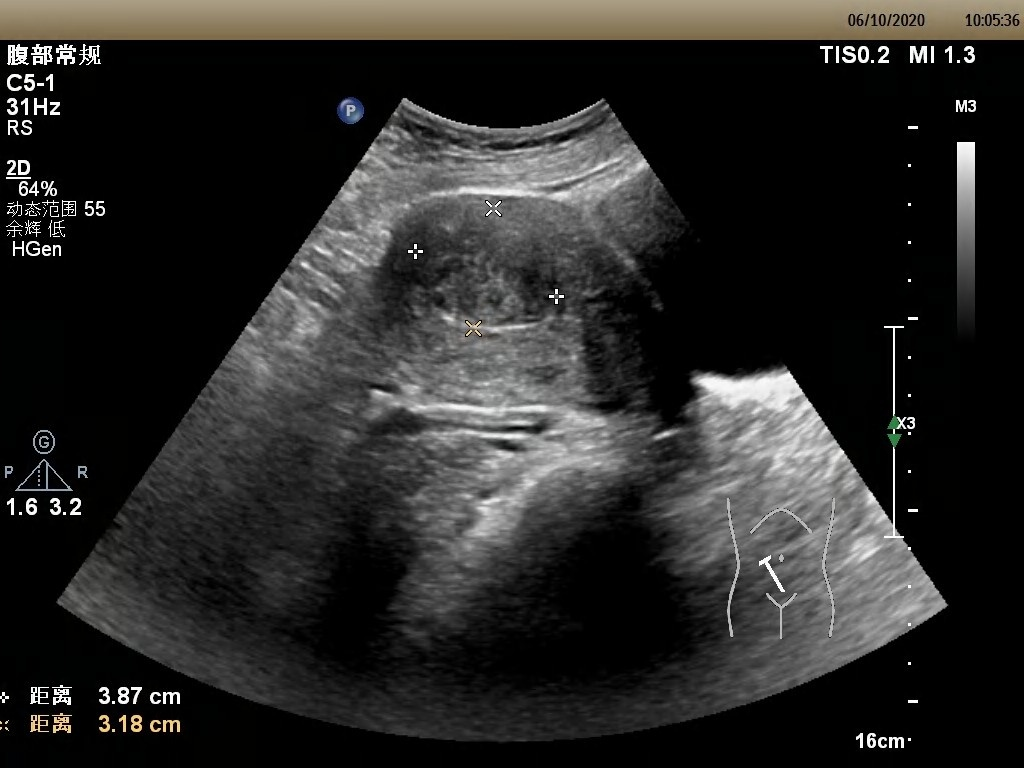肌瘤: (406, 206, 558, 329)
